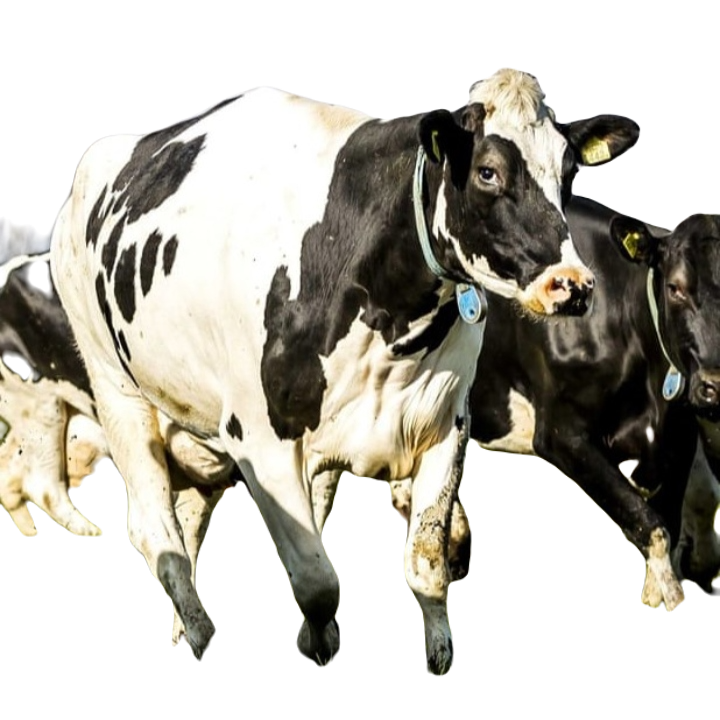Cow: (48, 66, 641, 672)
